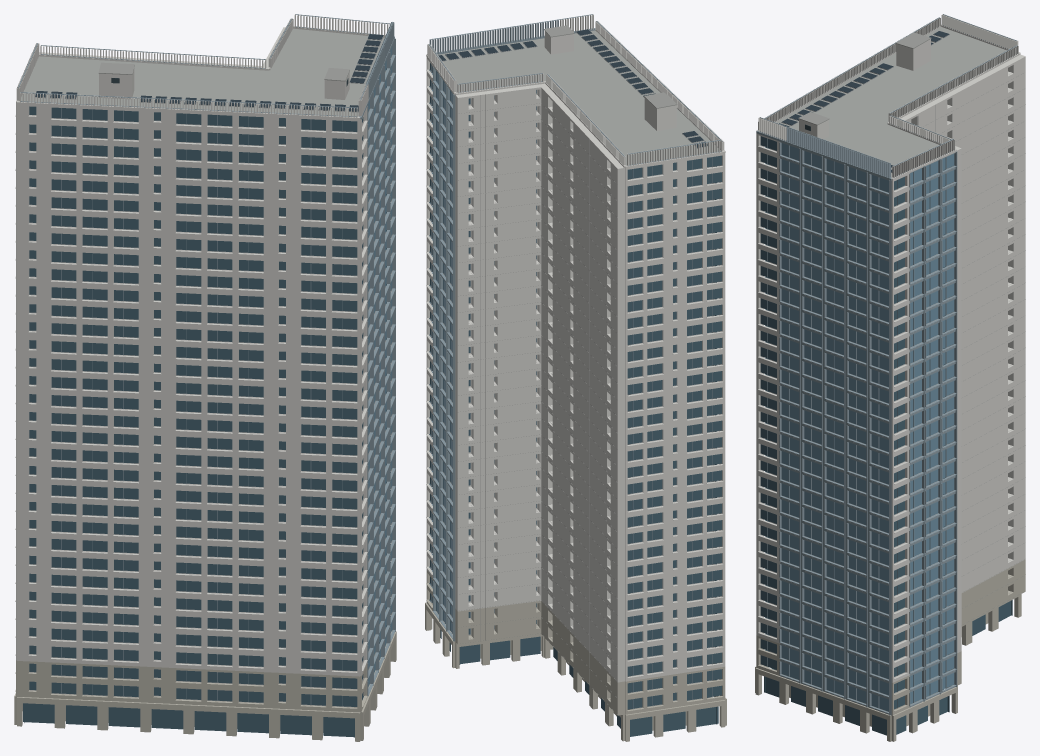
File: bespoke-maple-xi-109.glb
The picture shows the model from 3 angles, left to right: view 1: azimuth 30°, elevation 25°; view 2: azimuth 150°, elevation 25°; view 3: azimuth 270°, elevation 25°; orthographic projection. The views are drawn at different scales.
Parts seen in each view (by area): view 1: Maple109_e5_outer_glass, Maple109_e5_outer_piers001, Maple109_e5_outer_sill001, Maple109_e5_outer_head001, Maple109_e5_outer_silllip001, Maple109_numbered_plan_roof, Maple109_numbered_plan_inset_body, Maple109_e4_dark_projected_metal_rib, Maple109_e5_outer_reveal001, Maple109_e5_end_pier001, Maple109_e4_dark_reveal, Maple109_e4_dark_silllip (+23 smaller); view 2: Maple109_e1_core_piers001, Maple109_e2_core_piers001, Maple109_e0_end_glass, Maple109_e0_end_piers001, Maple109_numbered_plan_roof, Maple109_e0_end_sill001, Maple109_e2_end_pier001, Maple109_e0_end_head001, Maple109_e0_end_silllip001, Maple109_e1_end_pier001, Maple109_e3_dark_reveal, Maple109_e0_end_reveal001 (+48 smaller); view 3: Maple109_e4_dark_glass, Maple109_e1_core_piers001, Maple109_e3_dark_glass, Maple109_numbered_plan_roof, Maple109_e4_dark_silllip, Maple109_e4_dark_reveal, Maple109_e4_dark_head, Maple109_e4_dark_piers, Maple109_e4_outer_glass, Maple109_e4_dark_projected_metal_rib, Maple109_e4_dark_sill, Maple109_e3_dark_projected_metal_rib (+44 smaller).
Boxes of the visible parts, x1,y1,x2,y2 form: Maple109_e5_outer_glass: [29, 106, 357, 706]; Maple109_e5_outer_piers001: [36, 105, 360, 676]; Maple109_e5_outer_sill001: [28, 117, 357, 676]; Maple109_e5_outer_head001: [28, 105, 357, 660]; Maple109_e5_outer_silllip001: [28, 115, 357, 673]; Maple109_numbered_plan_roof: [19, 28, 384, 116]; Maple109_numbered_plan_inset_body: [29, 81, 381, 707]; Maple109_e4_dark_projected_metal_rib: [371, 38, 395, 685]; Maple109_e5_outer_reveal001: [28, 106, 332, 670]; Maple109_e5_end_pier001: [17, 104, 28, 661]; Maple109_e4_dark_reveal: [367, 44, 393, 695]; Maple109_e4_dark_silllip: [368, 54, 395, 696]; Maple109_e1_core_piers001: [552, 98, 625, 682]; Maple109_e2_core_piers001: [472, 84, 545, 609]; Maple109_e0_end_glass: [627, 155, 721, 709]; Maple109_e0_end_piers001: [643, 154, 724, 678]; Maple109_numbered_plan_roof: [438, 30, 720, 165]; Maple109_e0_end_sill001: [627, 167, 722, 681]; Maple109_e2_end_pier001: [455, 94, 468, 611]; Maple109_e0_end_head001: [627, 154, 722, 666]; Maple109_e0_end_silllip001: [627, 165, 723, 678]; Maple109_e1_end_pier001: [539, 83, 553, 607]; Maple109_e3_dark_reveal: [433, 67, 449, 630]; Maple109_e0_end_reveal001: [627, 155, 722, 677]; Maple109_e4_dark_glass: [781, 143, 888, 711]; Maple109_e1_core_piers001: [913, 54, 1025, 592]; Maple109_e3_dark_glass: [910, 154, 954, 703]; Maple109_numbered_plan_roof: [776, 27, 1006, 177]; Maple109_e4_dark_silllip: [779, 155, 889, 713]; Maple109_e4_dark_reveal: [779, 142, 871, 706]; Maple109_e4_dark_head: [780, 142, 888, 699]; Maple109_e4_dark_piers: [800, 149, 891, 715]; Maple109_e4_outer_glass: [760, 136, 776, 669]; Maple109_e4_dark_projected_metal_rib: [799, 148, 890, 715]; Maple109_e4_dark_sill: [780, 156, 888, 714]; Maple109_e3_dark_projected_metal_rib: [922, 151, 957, 701].
Size of the model in its own units: 61.67 by 108 by 45.37.
